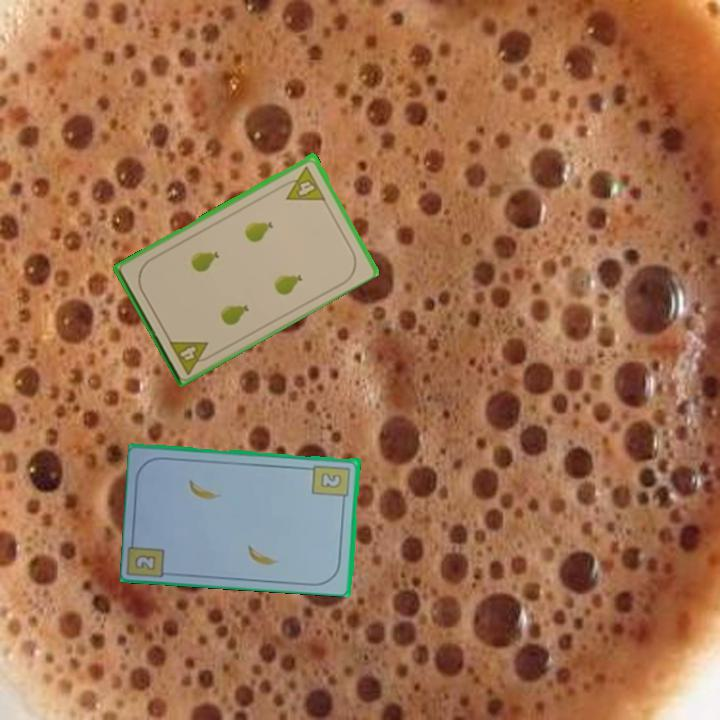2b: (309, 461, 353, 505), (131, 551, 159, 573)
4p: (165, 336, 218, 377), (277, 162, 328, 203)
